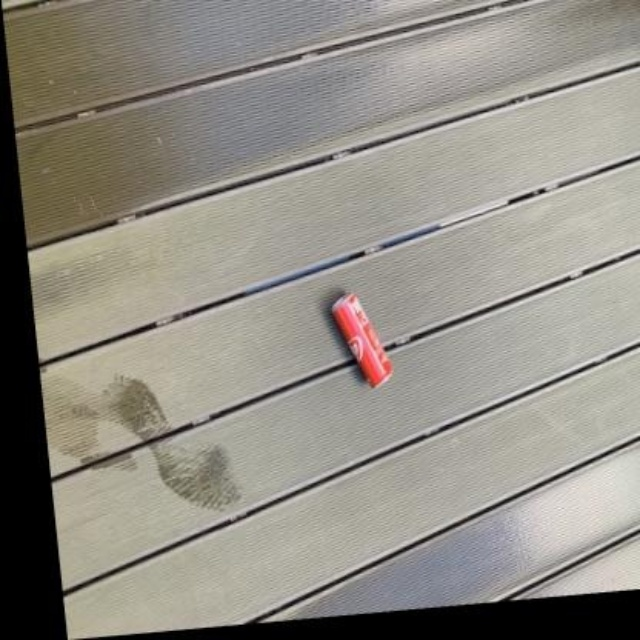trash: (332, 294, 391, 386)
